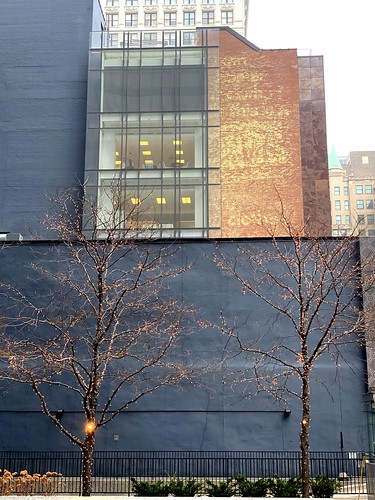building: (1, 1, 337, 235), (109, 1, 242, 39), (330, 148, 375, 231)
tree: (1, 180, 197, 500), (217, 197, 375, 500)
